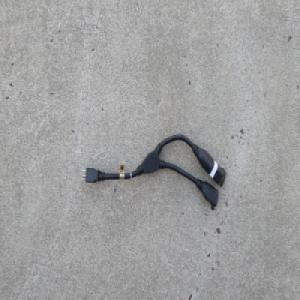Wire: (79, 133, 228, 212)
